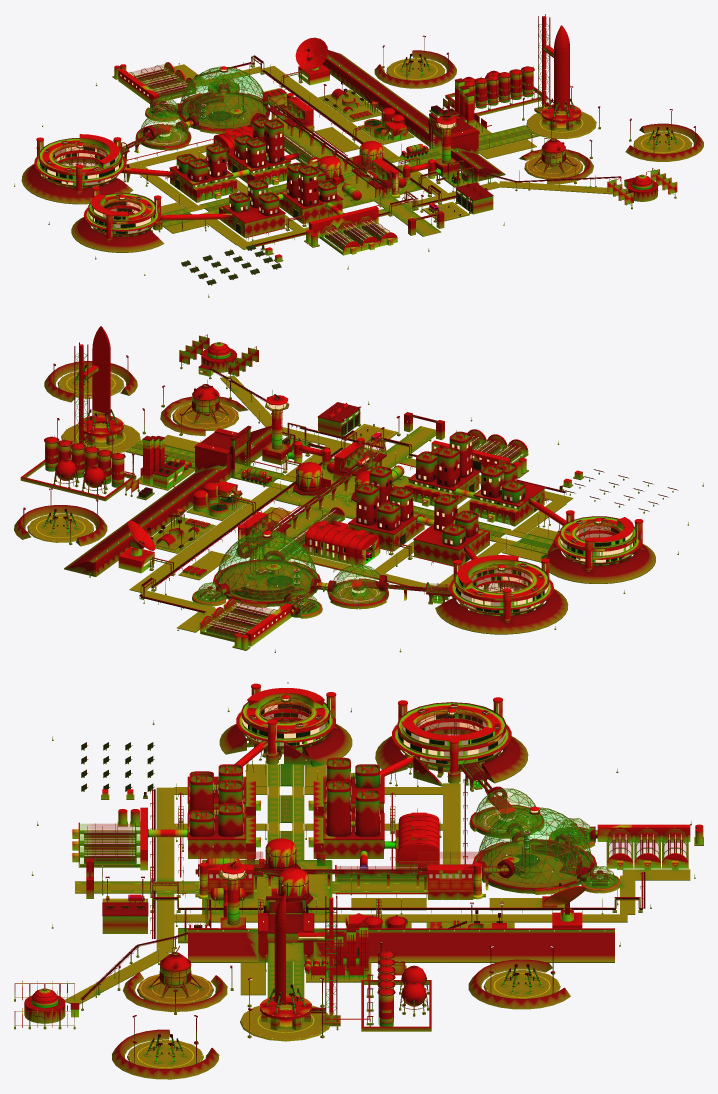
The model's file is mars-outpost-lite-v3.glb.
The picture shows the model from 3 angles, top to bottom: view 1: azimuth 30°, elevation 25°; view 2: azimuth 150°, elevation 25°; view 3: azimuth 270°, elevation 25°; orthographic projection. The views are drawn at different scales.
Visible parts, largest first — view 1: static_pad, static_paint, static_sinter, static_frame, static_regolith, static_glass, static_steel, static_anodized, static_vegetation, static_foil, static_lit, static_fabric (+6 smaller); view 2: static_pad, static_paint, static_sinter, static_frame, static_regolith, static_glass, static_steel, static_anodized, static_foil, static_vegetation, static_lit, static_black (+6 smaller); view 3: static_pad, static_paint, static_frame, static_regolith, static_sinter, static_glass, static_steel, static_vegetation, static_anodized, static_foil, static_fabric, static_lit (+8 smaller).
Part boxes in pixels (x1,y1,x2,y2): static_pad: (14, 58, 692, 297); static_paint: (34, 16, 677, 261); static_sinter: (55, 58, 657, 241); static_frame: (14, 14, 695, 296); static_regolith: (21, 50, 703, 252); static_glass: (36, 63, 392, 251); static_steel: (114, 25, 677, 246); static_anodized: (154, 48, 676, 248); static_vegetation: (75, 69, 385, 248); static_foil: (126, 56, 533, 246); static_lit: (39, 69, 471, 226); static_fabric: (318, 141, 383, 181); static_pad: (27, 354, 703, 652); static_paint: (79, 335, 643, 646); static_sinter: (20, 348, 644, 622); static_frame: (23, 334, 703, 651); static_regolith: (14, 361, 655, 634); static_glass: (197, 431, 639, 638); static_steel: (44, 326, 526, 648); static_anodized: (45, 364, 564, 612); static_foil: (45, 428, 566, 611); static_vegetation: (200, 440, 598, 636); static_lit: (143, 370, 632, 636); static_black: (163, 414, 539, 586); static_pad: (14, 710, 703, 1068); static_paint: (22, 683, 690, 1027); static_frame: (14, 682, 694, 1063); static_regolith: (112, 719, 614, 1079); static_sinter: (24, 727, 620, 1031); static_glass: (80, 697, 687, 922); static_steel: (31, 758, 703, 1061); static_vegetation: (84, 718, 682, 884); static_anodized: (33, 734, 645, 1057); static_foil: (152, 779, 643, 1019); static_fabric: (265, 838, 308, 901); static_lit: (189, 698, 537, 938).
Size of the model in its own units: 347 by 56.89 by 275.
